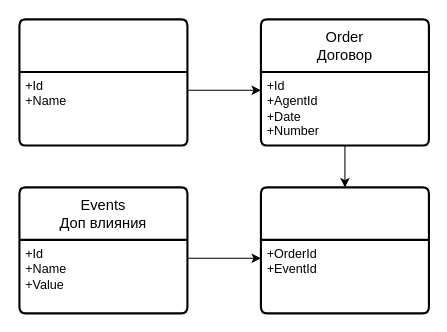
Some shapes in this 447 by 332 pixel diagram are drawn without their labels. The box of each missing label's shape, as (x1, y1, x2, y2) in pixels:
Agent Контрагенты: (18, 18, 188, 146)
OrderEventsExtendeds Доп влияния по договору: (259, 186, 429, 314)
